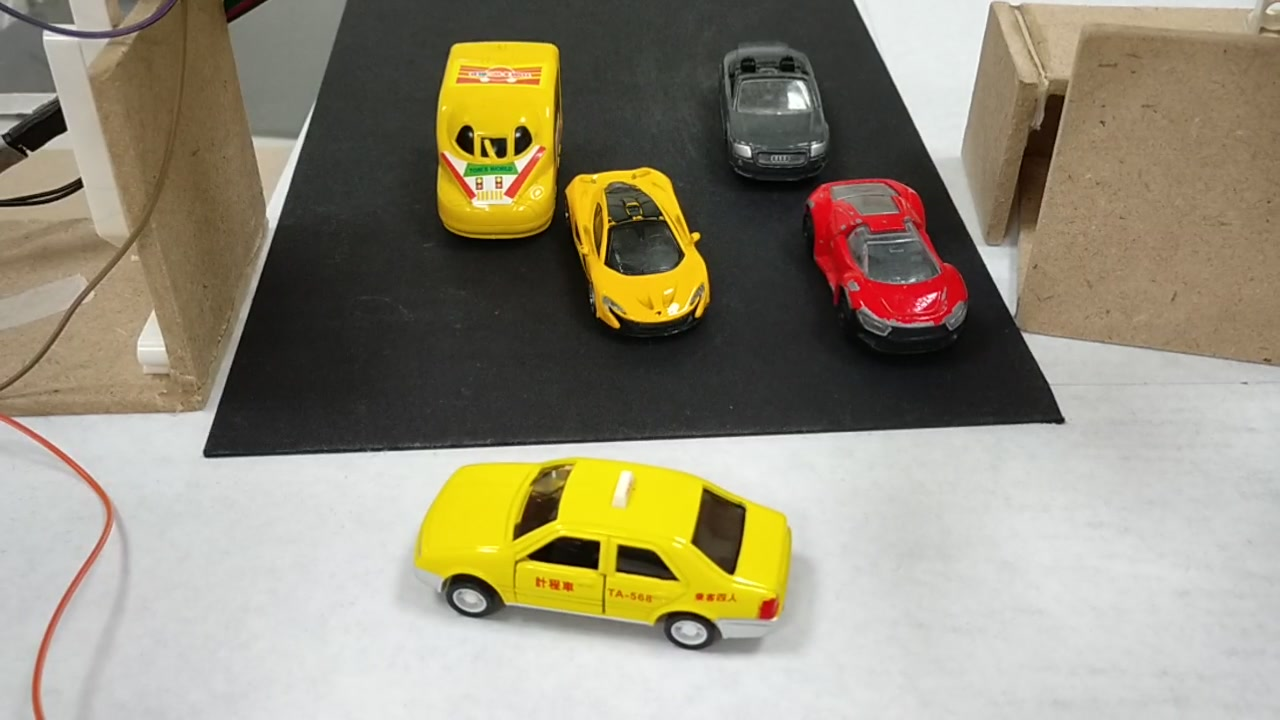car: (416, 461, 793, 659), (803, 190, 968, 361), (567, 171, 703, 334), (718, 51, 829, 179)
